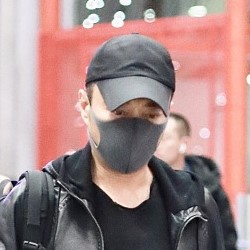mask: (73, 110, 167, 175)
